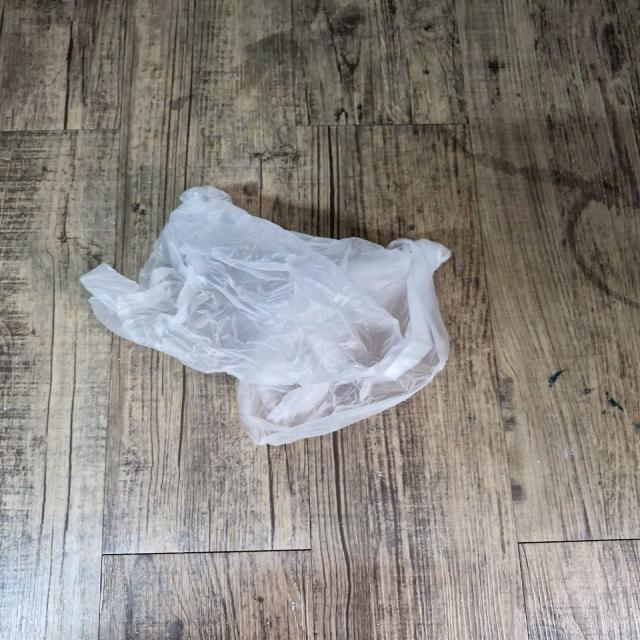plastic bag: (76, 181, 456, 450)
